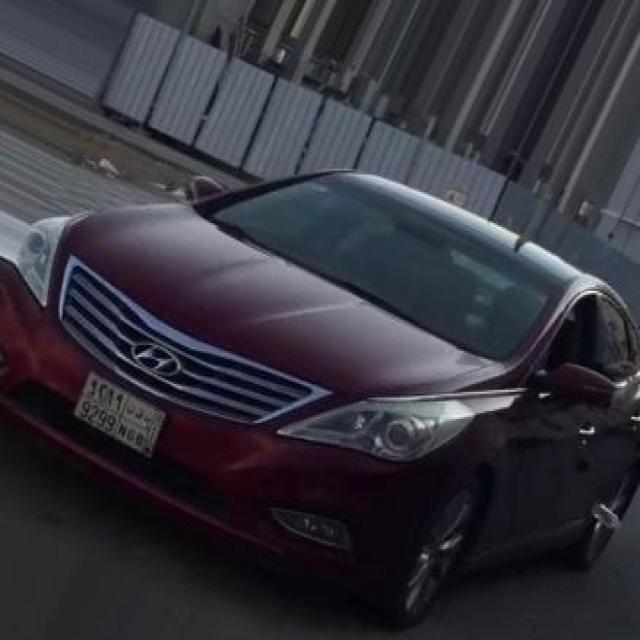Car-plate: (61, 358, 179, 478)
